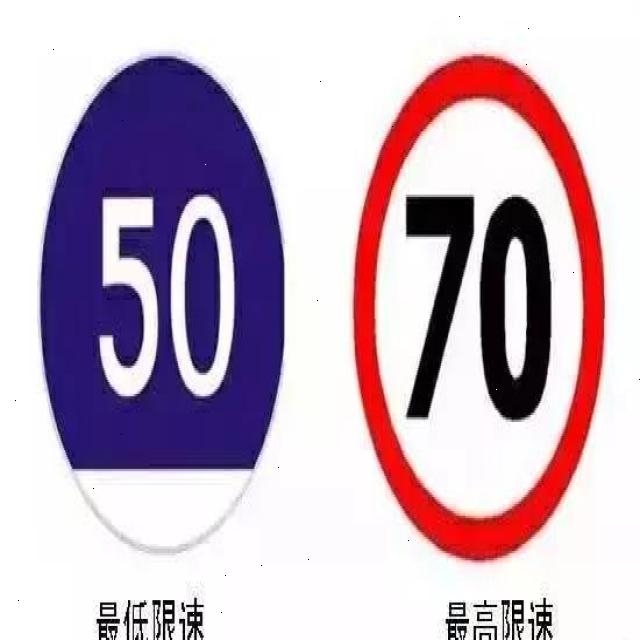speed limit 50: (40, 56, 286, 556)
speed limit 70: (352, 54, 604, 563)
